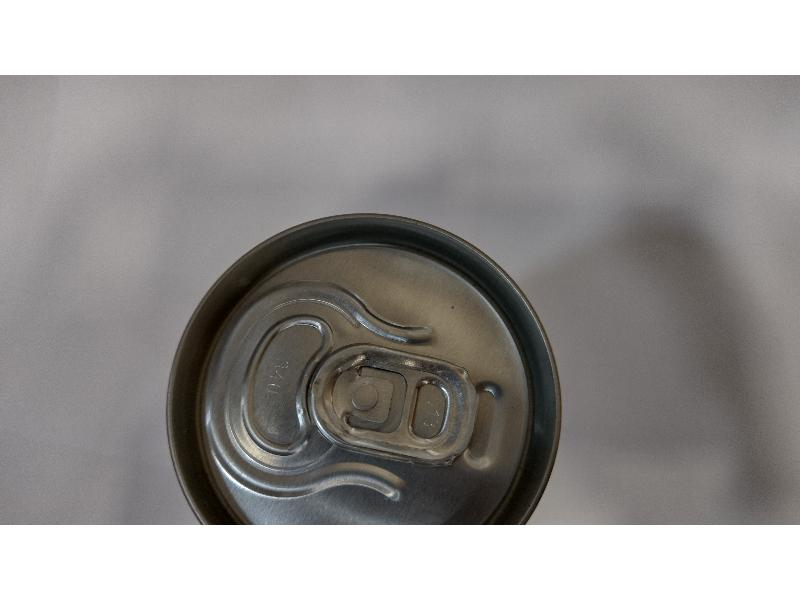can: (150, 208, 573, 515)
